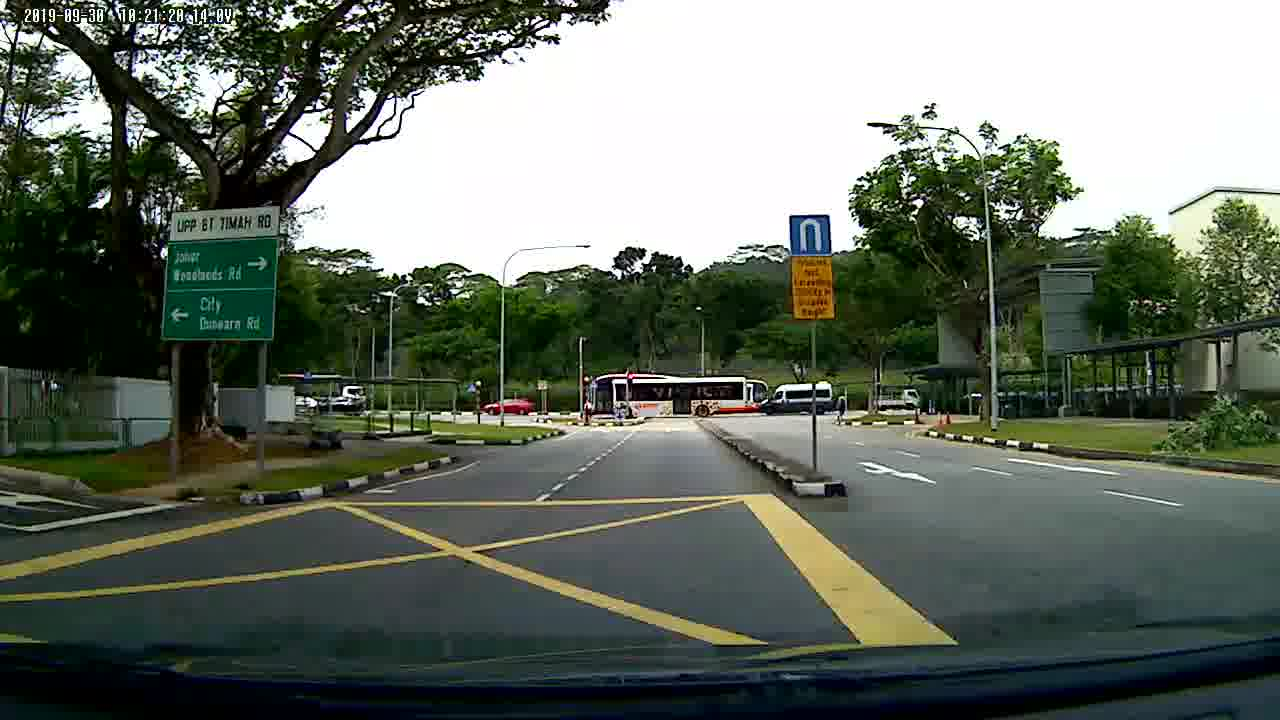bus: (582, 370, 751, 421)
car: (481, 398, 538, 418)
